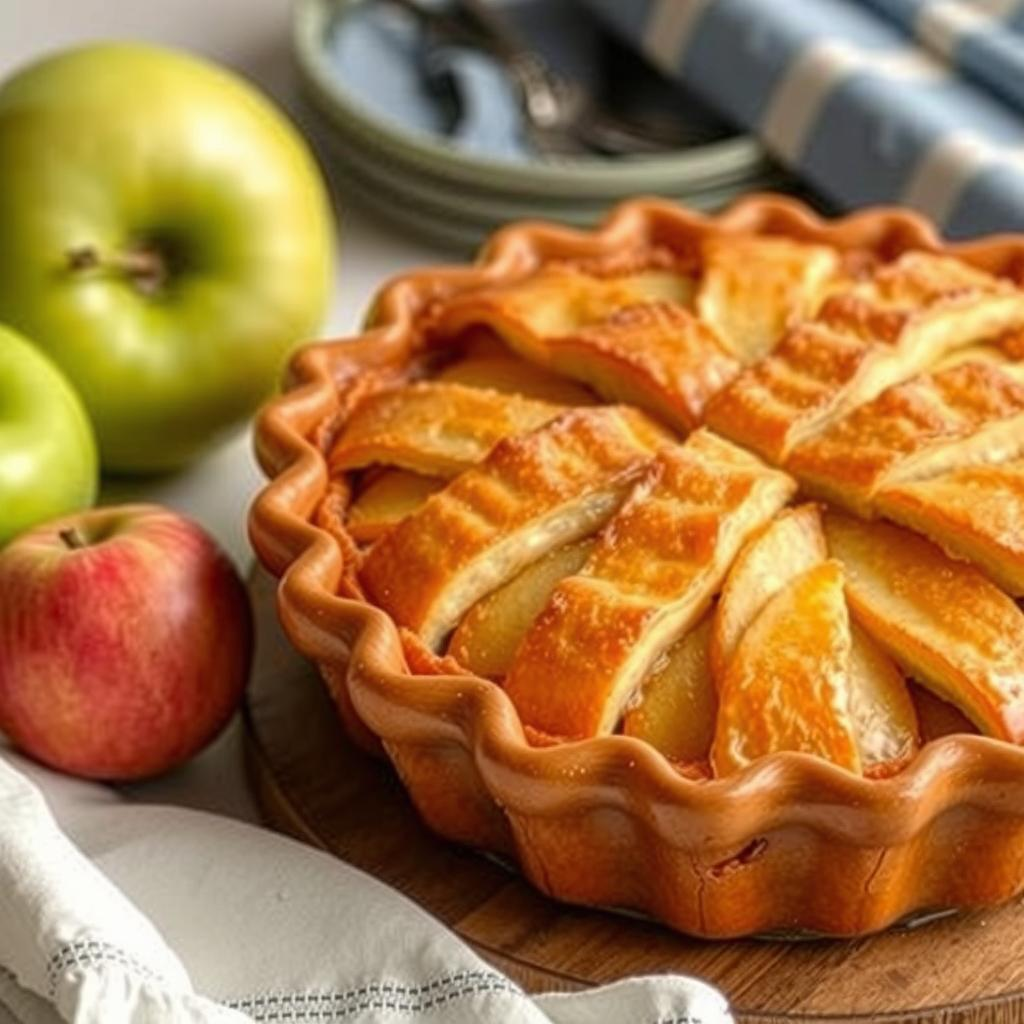cake: (244, 176, 1024, 949)
